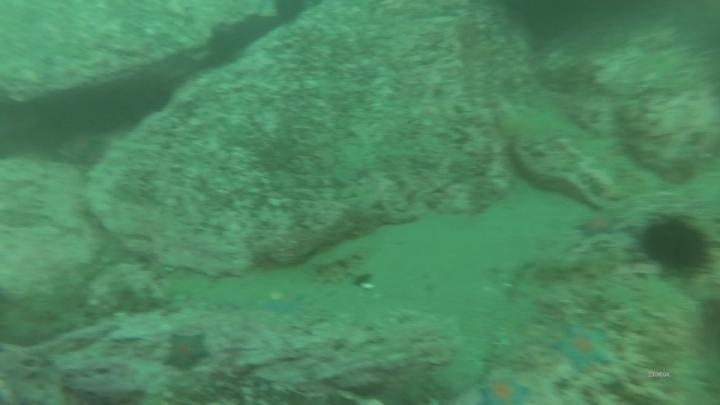echinus: (637, 211, 715, 279), (271, 1, 310, 26)
holothurian: (528, 250, 620, 287)
starfish: (494, 95, 587, 150), (550, 321, 617, 375), (161, 328, 213, 373), (50, 127, 103, 168), (476, 373, 531, 405), (254, 288, 309, 318), (572, 210, 622, 241)
